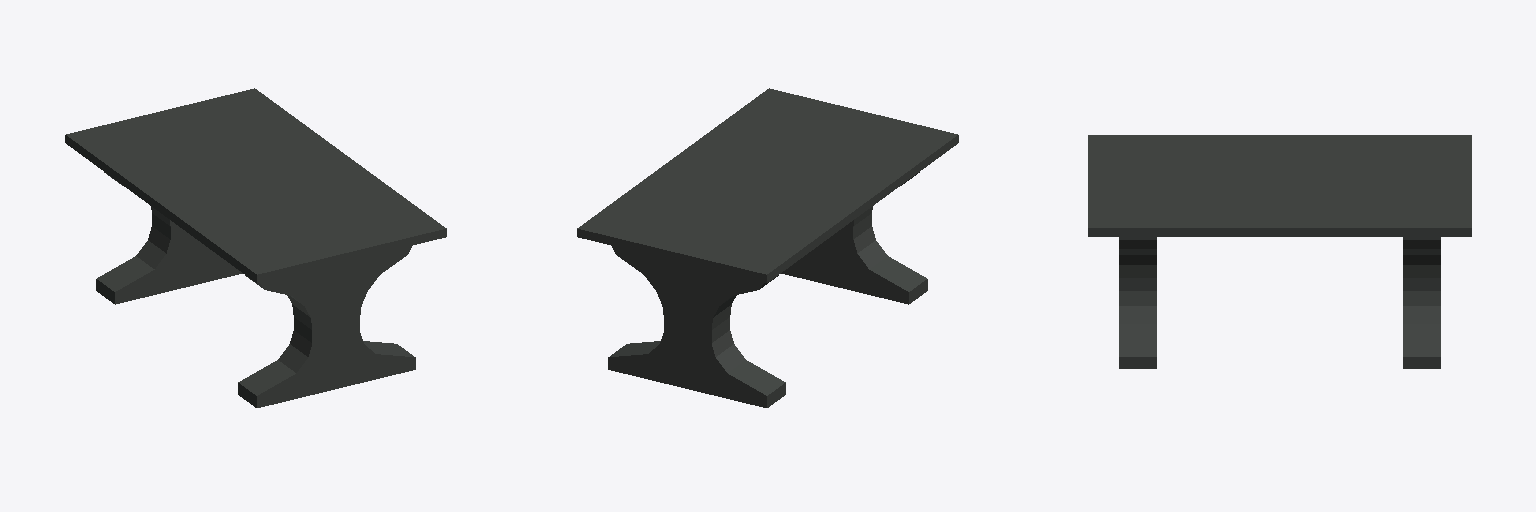
Rendered from stol.obj.
3 renders of one model, left to right at view 1: azimuth 30°, elevation 25°; view 2: azimuth 150°, elevation 25°; view 3: azimuth 270°, elevation 25°, orthographic.
Parts seen in each view (by area): view 1: Cube.036_Cube.052; view 2: Cube.036_Cube.052; view 3: Cube.036_Cube.052.
Boxes of the visible parts, <box> form: Cube.036_Cube.052: <box>65,88,446,407</box>; Cube.036_Cube.052: <box>577,88,958,407</box>; Cube.036_Cube.052: <box>1088,135,1471,368</box>.
Size of the model in its own units: 8 by 6 by 14.